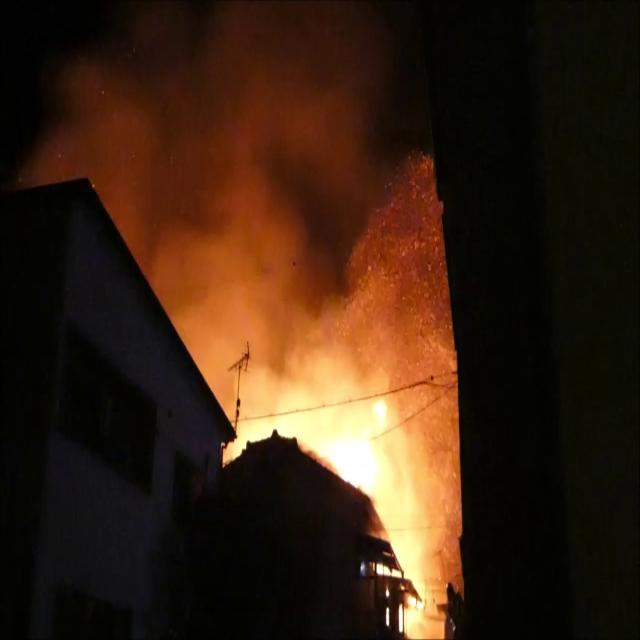Fire: (318, 361, 448, 634)
Smoke: (11, 1, 450, 392)
